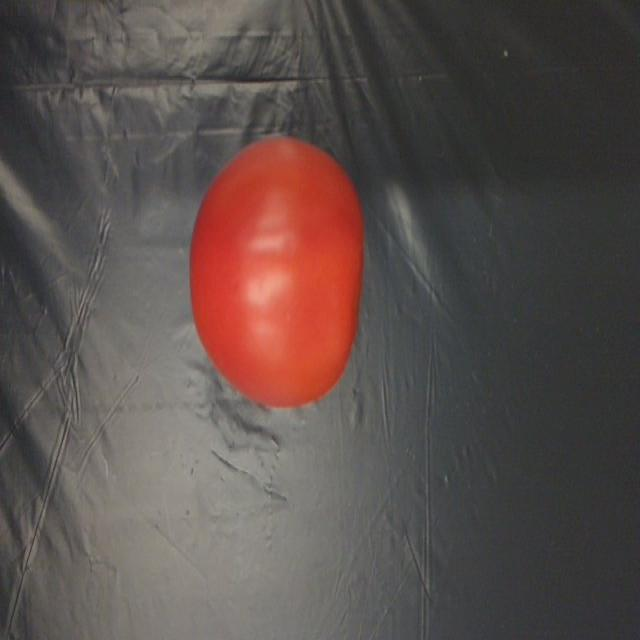kirmizi: (186, 107, 371, 419)
